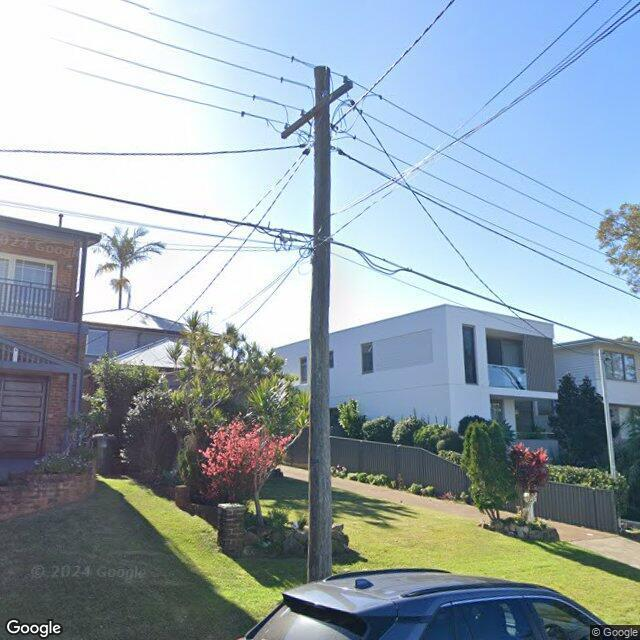crossarm: (279, 78, 354, 142)
timber-pole: (306, 66, 332, 576)
